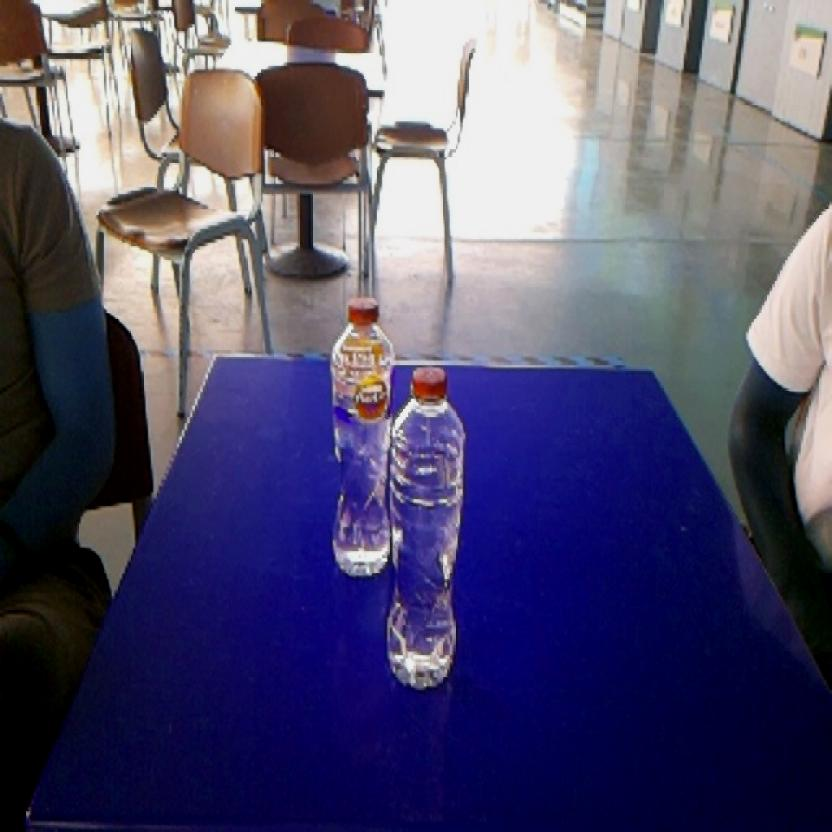good: (325, 290, 395, 584)
no_label: (388, 369, 470, 699)
